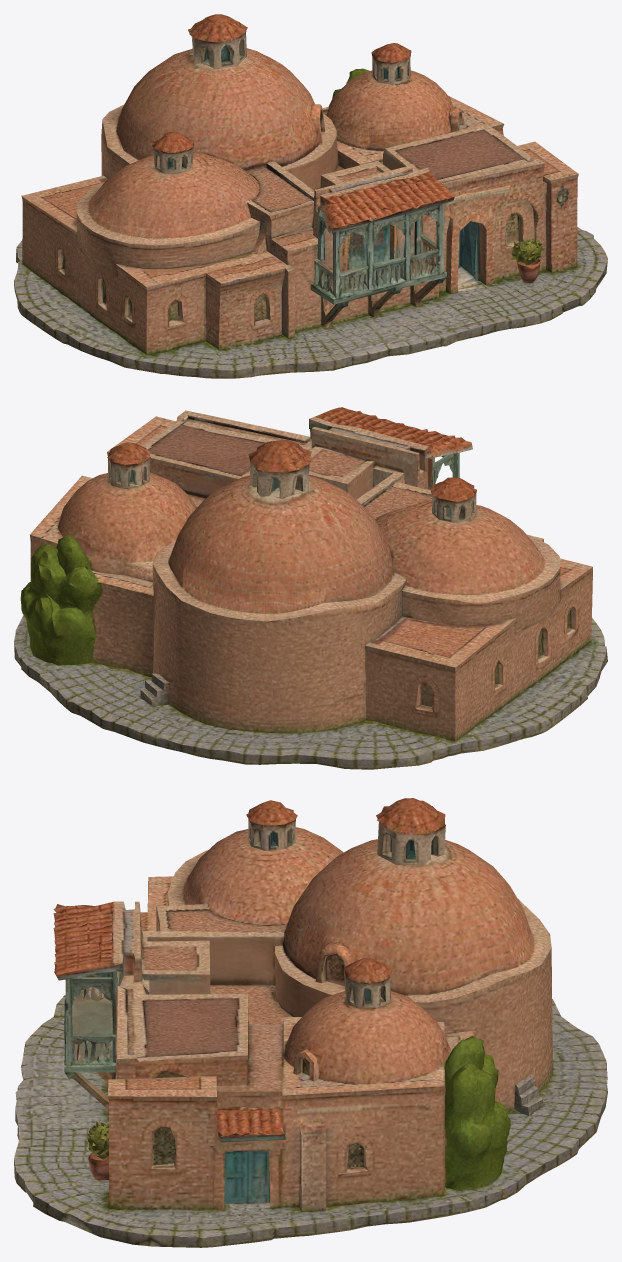
File: m_tb_baths.glb
The picture shows the model from 3 angles, top to bottom: view 1: azimuth 30°, elevation 25°; view 2: azimuth 150°, elevation 25°; view 3: azimuth 270°, elevation 25°; orthographic projection. The views are drawn at different scales.
Bounding box in the file's own units: 0.9987 × 0.4358 × 0.8347.
1 material, 1 textured.
